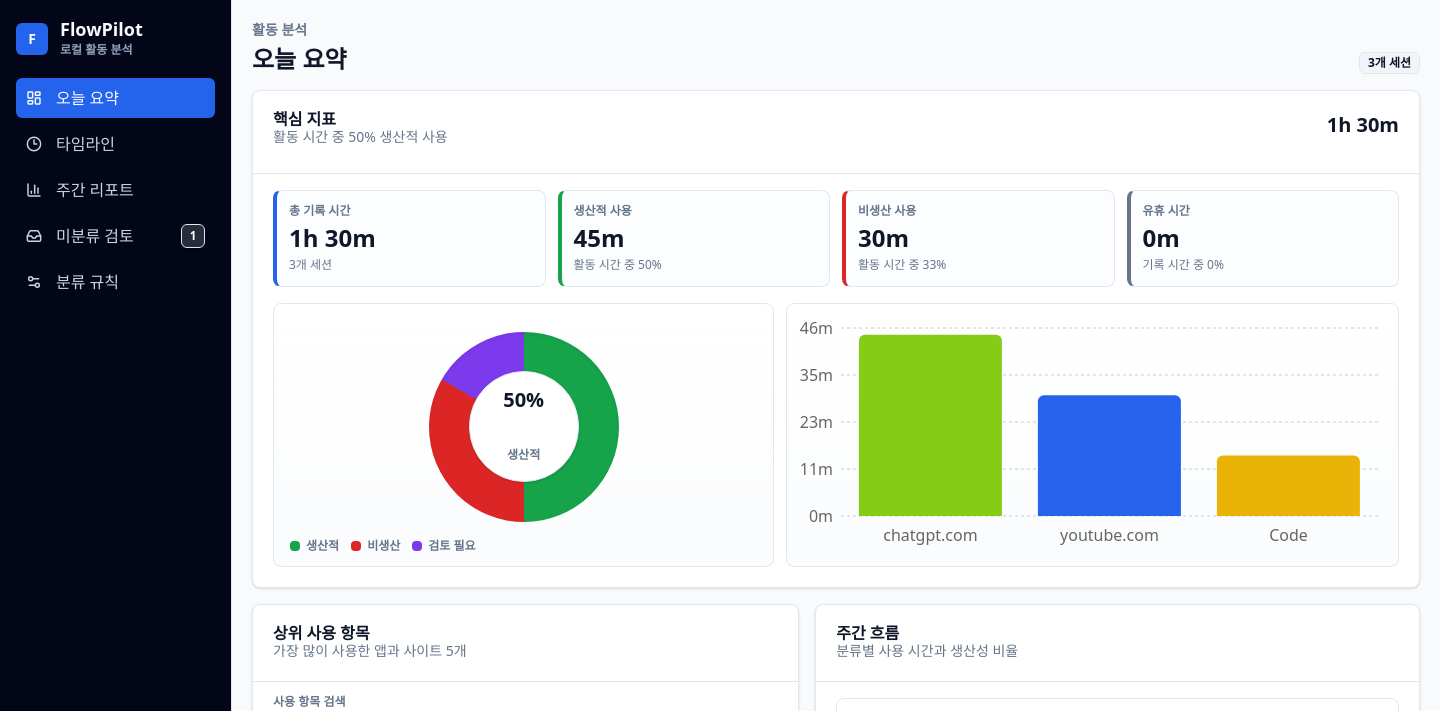
it: App › reloads the rules table after a quick rule is created
Check: the heading "오늘 요약" is shown, box [252,44,347,74]
What coordinates should you click on to do the following:
click the button "분류 규칙"
I would click on:
 (116, 282)
Its box is [16,262,215,302].
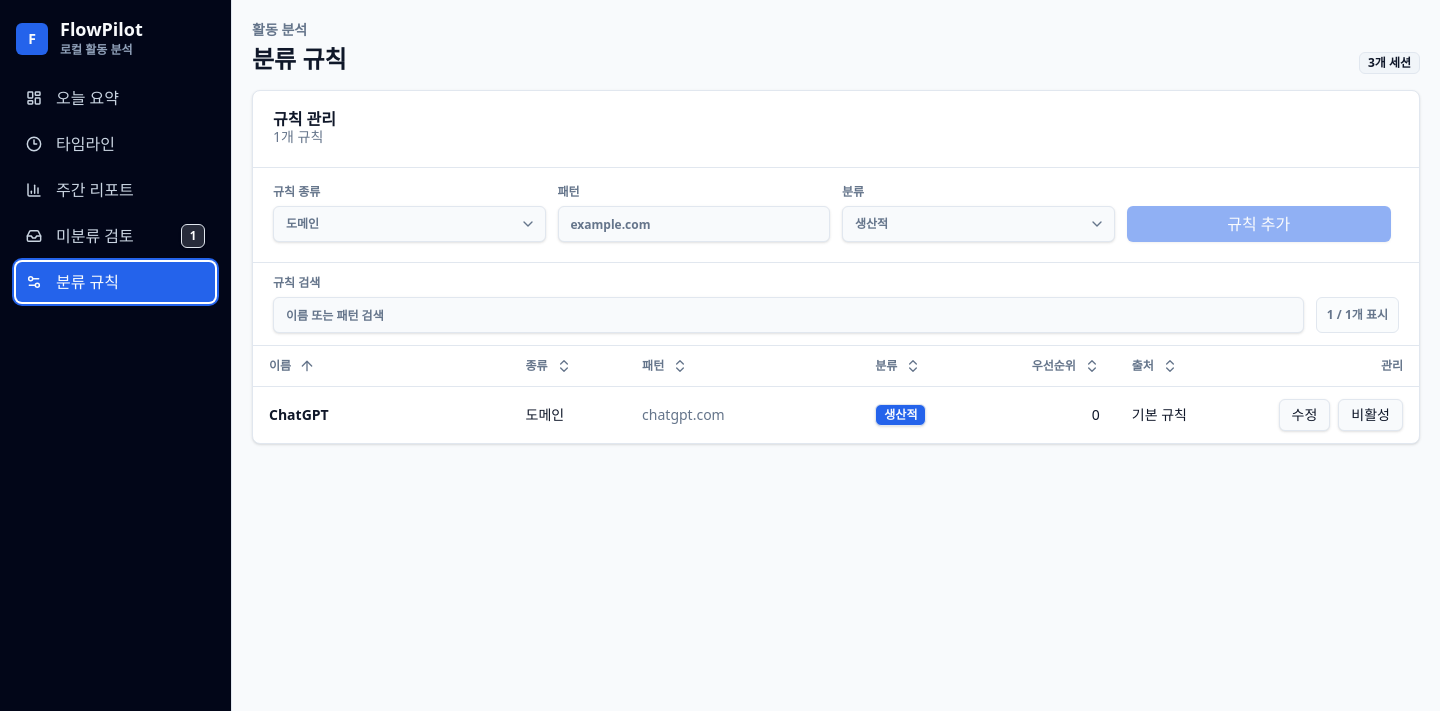
Check: the text "ChatGPT" is shown, box [269,404,329,424]
What coordinates should you click on to do the following:
click the button "미분류 검토 1"
I would click on:
 (116, 236)
Its box is [16,216,215,256].
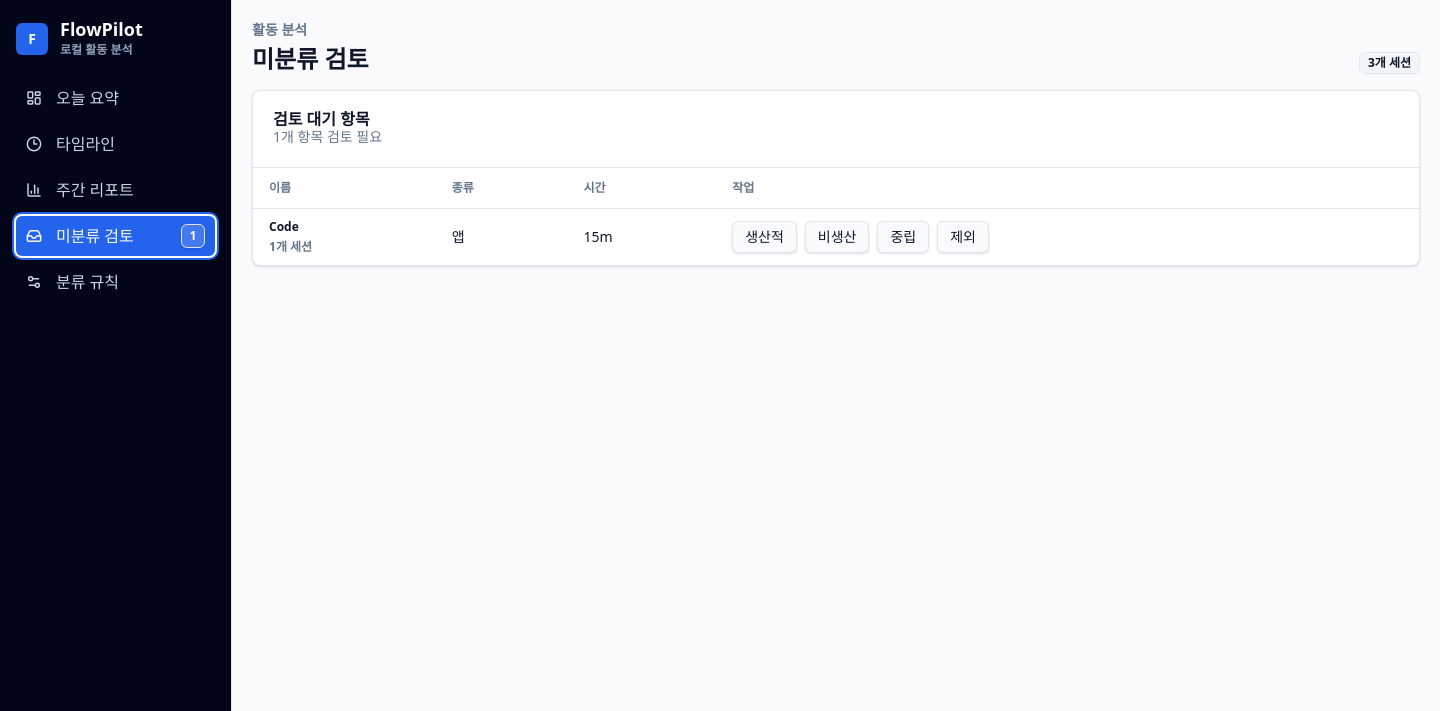
What coordinates should you click on to do the following:
click the button "생산적"
I would click on:
 (764, 236)
Its box is [732,220,797,252].
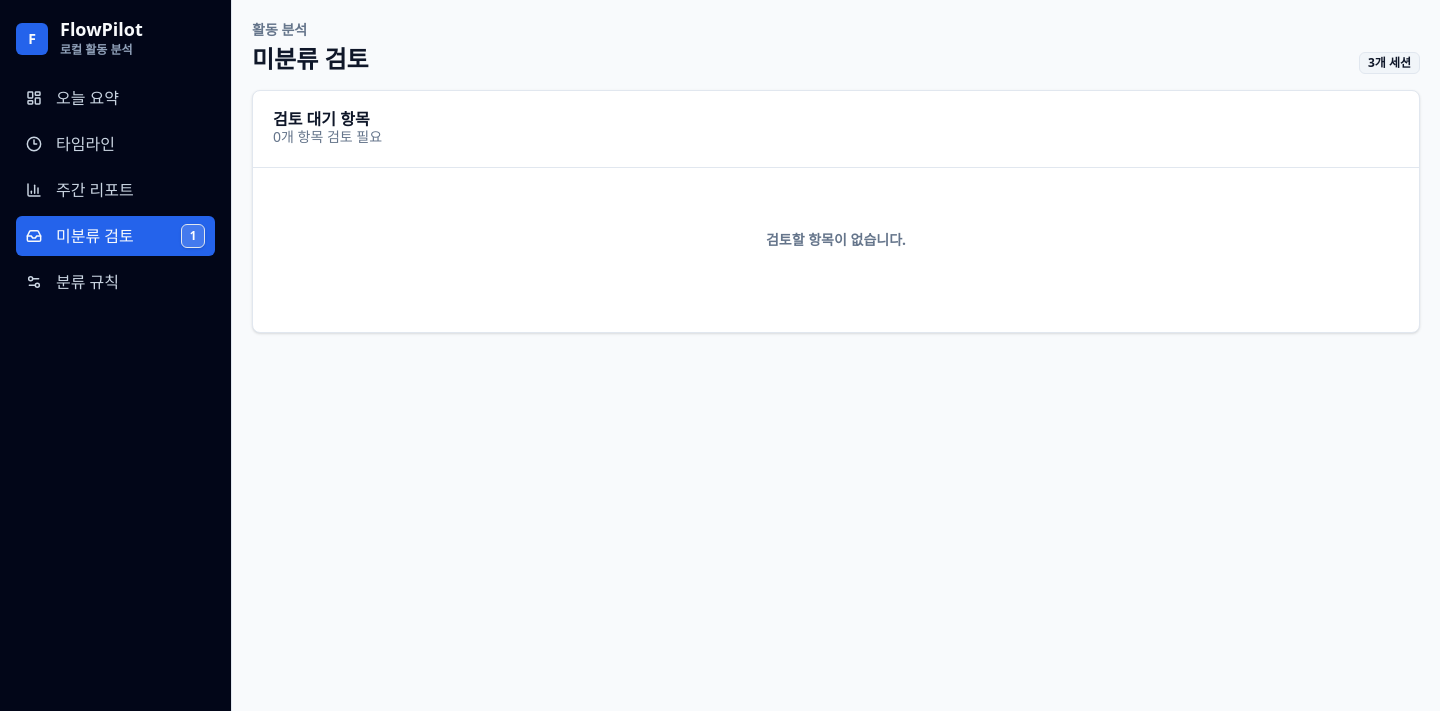
What coordinates should you click on to do the following:
click the button "분류 규칙"
I would click on:
 (116, 282)
Its box is [16,262,215,302].
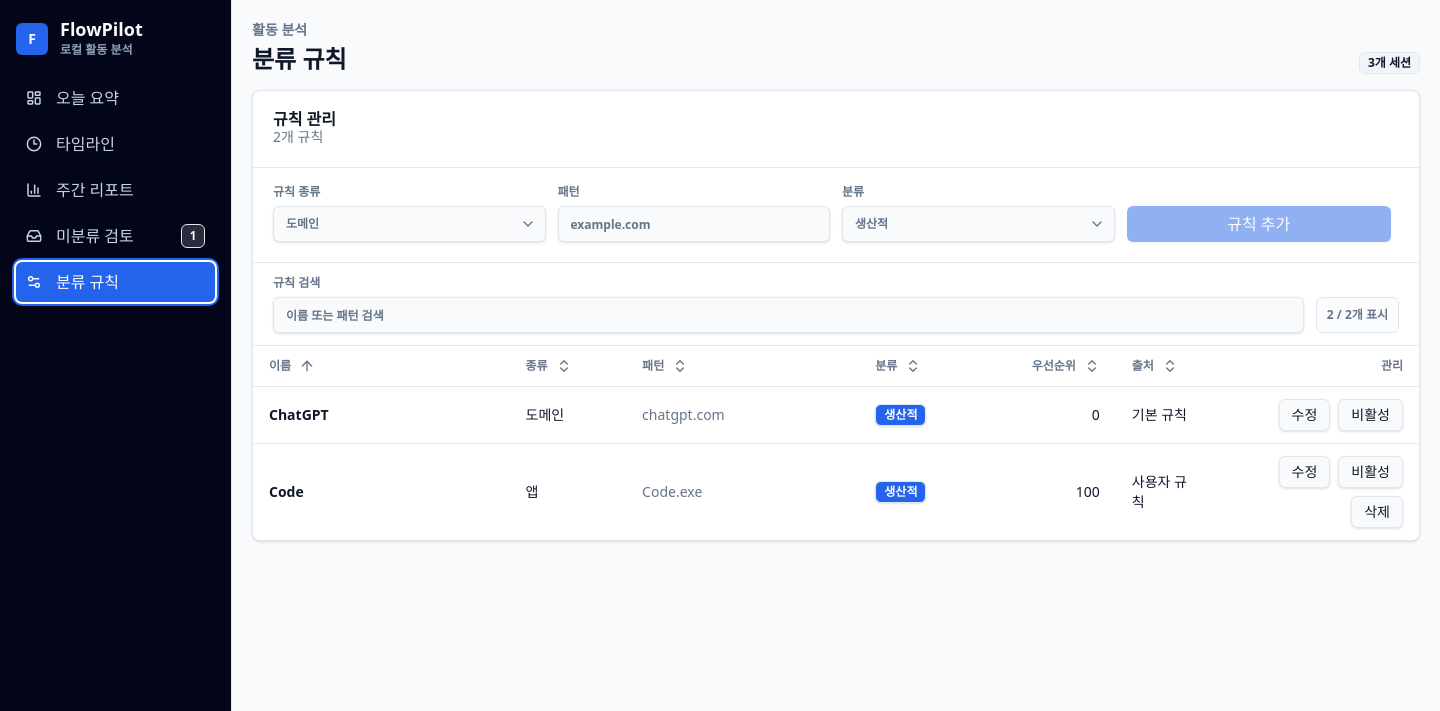
Check: the row "Code 앱 Code.exe 생산적 100 사용자 규칙 수정 비활성 삭제" is shown, box [253,443,1419,540]
